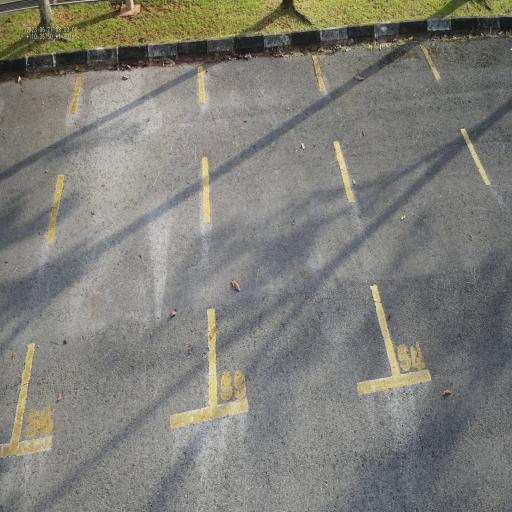Empty: (8, 48, 220, 461), (194, 51, 412, 425)
